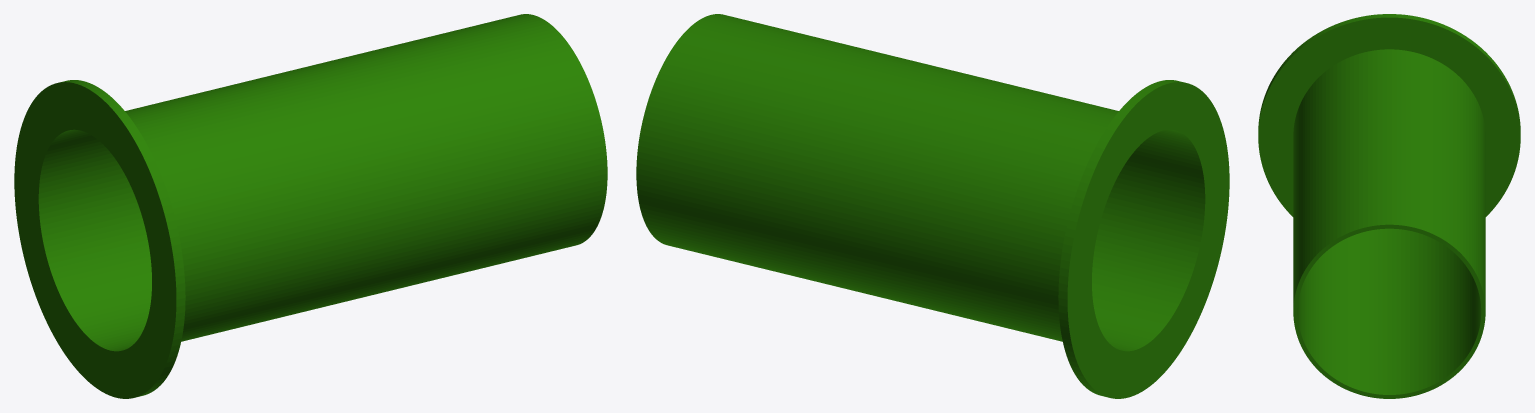
File: scorpion_reactor_environment-EntryPipe.dae
The picture shows the model from 3 angles, left to right: view 1: azimuth 30°, elevation 25°; view 2: azimuth 150°, elevation 25°; view 3: azimuth 270°, elevation 25°; orthographic projection. The views are drawn at different scales.
Visible parts, largest first — view 1: node0.002; view 2: node0.002; view 3: node0.002.
Boxes of the visible parts, left/top/right/bottom form: node0.002: left=14, top=14, right=607, bottom=398; node0.002: left=636, top=14, right=1229, bottom=398; node0.002: left=1258, top=14, right=1520, bottom=398.
Bounding box in the file's own units: 0.5 × 0.31 × 0.3099.
